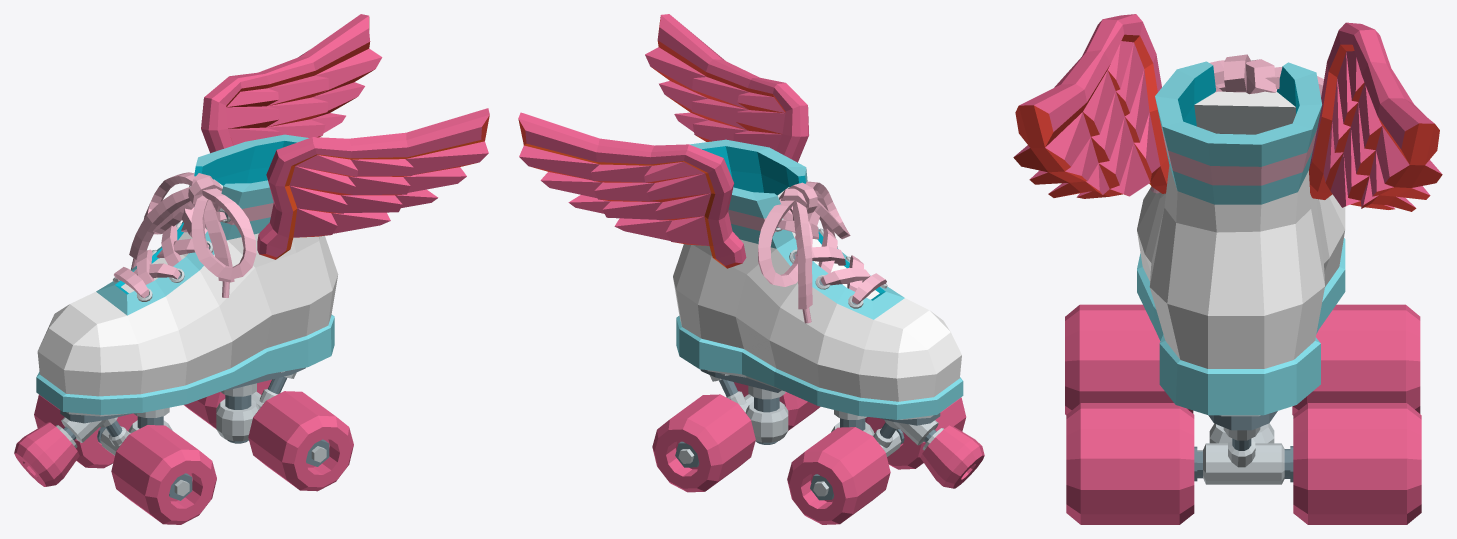
3 views of the same model, side by side, from view 1: azimuth 30°, elevation 25°; view 2: azimuth 150°, elevation 25°; view 3: azimuth 270°, elevation 25° (orthographic). The views are drawn at different scales.
Visible parts, largest first — view 1: mesh_1109177091, mesh_1398213399, mesh_629732502, group_1883008158, mesh_802483144, group_1238343970, mesh_1107867113, mesh_1271087452, mesh_991260271, group_160865221, group_590960198, mesh_943479247 (+3 smaller); view 2: mesh_1109177091, mesh_629732502, mesh_1398213399, group_1883008158, mesh_991260271, group_1238343970, mesh_1271087452, mesh_943479247, mesh_802483144, group_160865221, mesh_1107867113, mesh_1374940583 (+1 smaller); view 3: mesh_1109177091, group_1883008158, mesh_1398213399, mesh_629732502, mesh_991260271, mesh_802483144, mesh_1974956028, mesh_1836362934, mesh_1800551184, mesh_1374940583, mesh_1271087452.
Boxes of the visible parts, x1,y1,x2,y2 form: mesh_1109177091: (36, 134, 338, 414); mesh_1398213399: (257, 108, 489, 259); mesh_629732502: (201, 14, 382, 153); group_1883008158: (184, 379, 353, 491); mesh_802483144: (111, 425, 216, 524); group_1238343970: (14, 417, 105, 486); mesh_1107867113: (191, 188, 256, 279); mesh_1271087452: (216, 383, 259, 443); mesh_991260271: (34, 394, 137, 468); group_160865221: (129, 187, 190, 269); group_590960198: (204, 199, 234, 297); mesh_943479247: (144, 172, 195, 234); mesh_1109177091: (673, 139, 963, 419); mesh_629732502: (518, 112, 746, 268); mesh_1398213399: (645, 14, 808, 162); group_1883008158: (652, 382, 820, 492); mesh_991260271: (787, 427, 890, 524); group_1238343970: (893, 420, 984, 488); mesh_1271087452: (745, 385, 788, 444); mesh_943479247: (758, 198, 812, 286); mesh_802483144: (865, 397, 966, 469); group_160865221: (792, 201, 812, 323); mesh_1107867113: (805, 181, 850, 239); mesh_1374940583: (700, 369, 940, 425); mesh_1109177091: (1137, 61, 1345, 415); group_1883008158: (1066, 403, 1421, 524); mesh_1398213399: (1013, 14, 1169, 198); mesh_629732502: (1309, 22, 1442, 211); mesh_991260271: (1292, 304, 1420, 415); mesh_802483144: (1065, 304, 1193, 414); mesh_1974956028: (1223, 427, 1260, 467); mesh_1836362934: (1246, 59, 1275, 94); mesh_1800551184: (1224, 54, 1250, 92); mesh_1374940583: (1208, 411, 1277, 430); mesh_1271087452: (1209, 423, 1274, 443).
Size of the model in its own units: 240 by 199 by 147.
